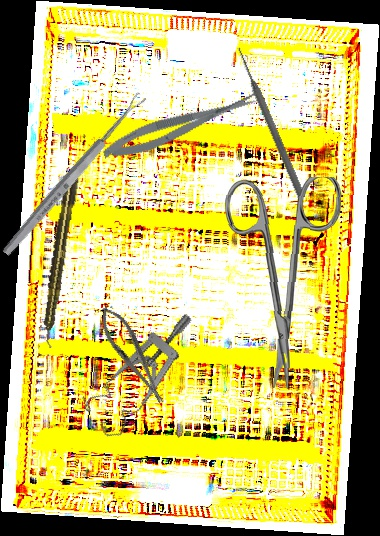Handpiece: (37, 173, 81, 349)
Iris Scissors: (218, 173, 343, 391)
Micro Scissor: (99, 86, 265, 166)
Needle Holder: (92, 300, 173, 411)
Pusher: (233, 45, 308, 200)
Speculum: (66, 311, 225, 445)
Surgical Spoon: (0, 91, 148, 258)
